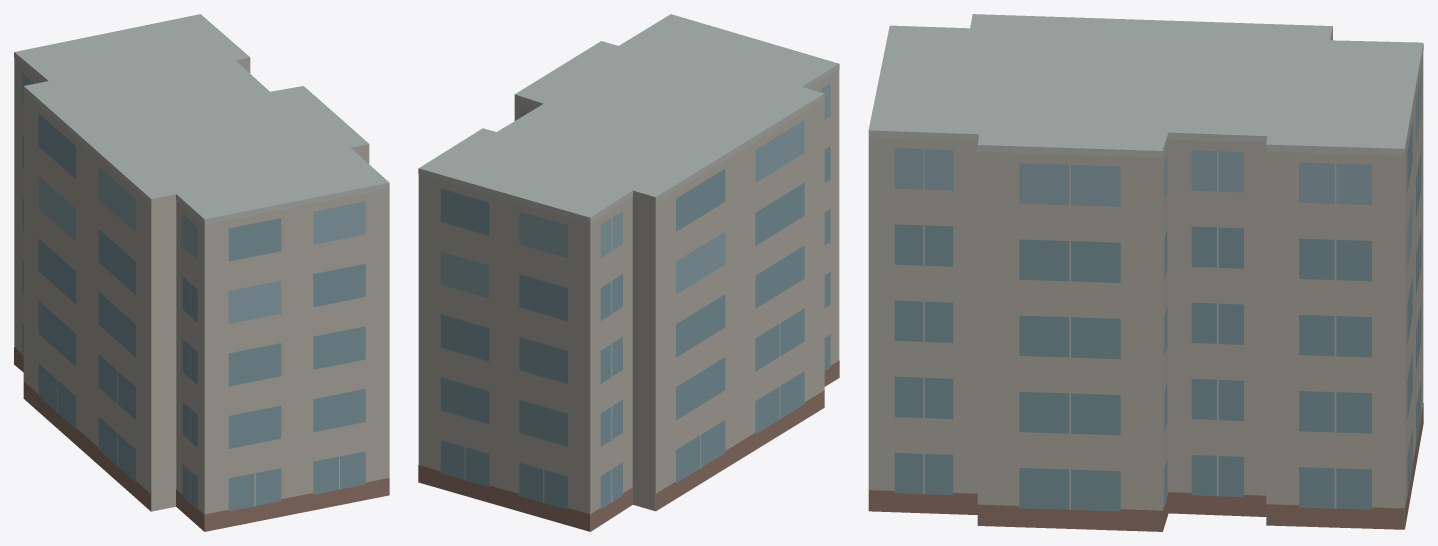
Rendered from survey-upis-32762839.glb.
3 renders of one model, left to right at view 1: azimuth 30°, elevation 25°; view 2: azimuth 150°, elevation 25°; view 3: azimuth 270°, elevation 25°, orthographic. The views are drawn at different scales.
Parts seen in each view (by area): view 1: survey-upis-32762839.tmp; view 2: survey-upis-32762839.tmp; view 3: survey-upis-32762839.tmp.
Part boxes in pixels (x1,y1,x2,y2): survey-upis-32762839.tmp: (14,14,389,531); survey-upis-32762839.tmp: (418,14,839,531); survey-upis-32762839.tmp: (868,14,1423,531).
Size of the model in its own units: 10.54 by 13.65 by 18.04.
